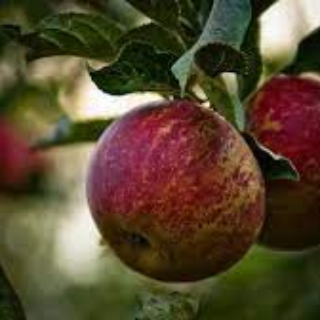tao: (83, 96, 267, 288)
